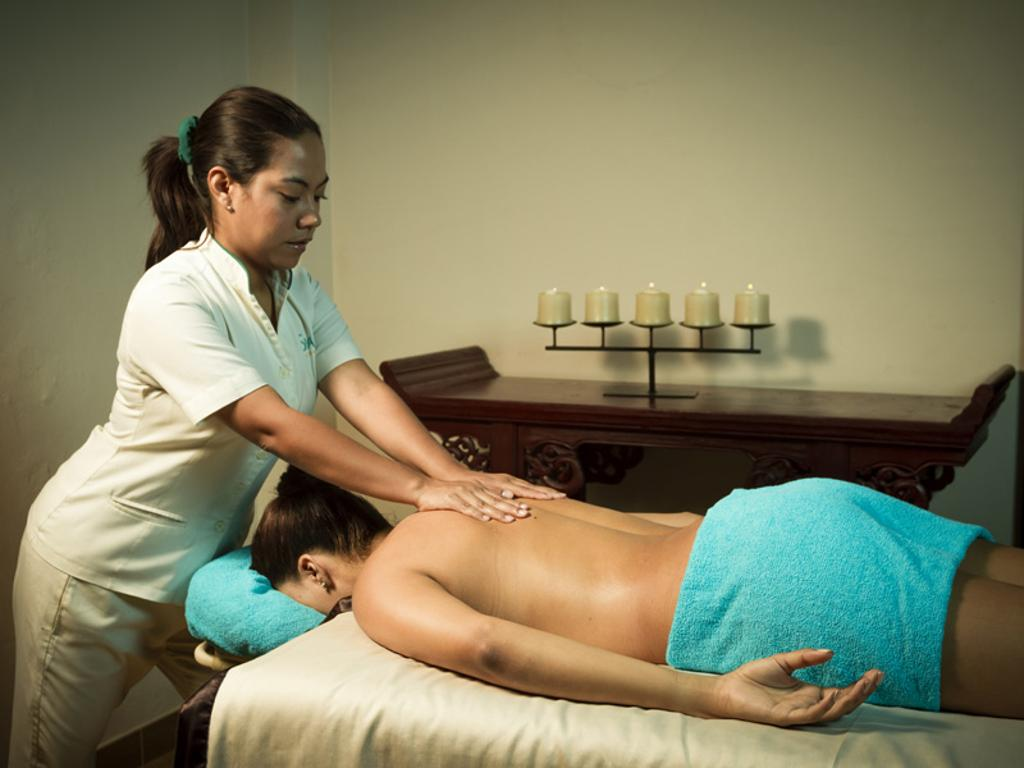face: (248, 154, 326, 270)
